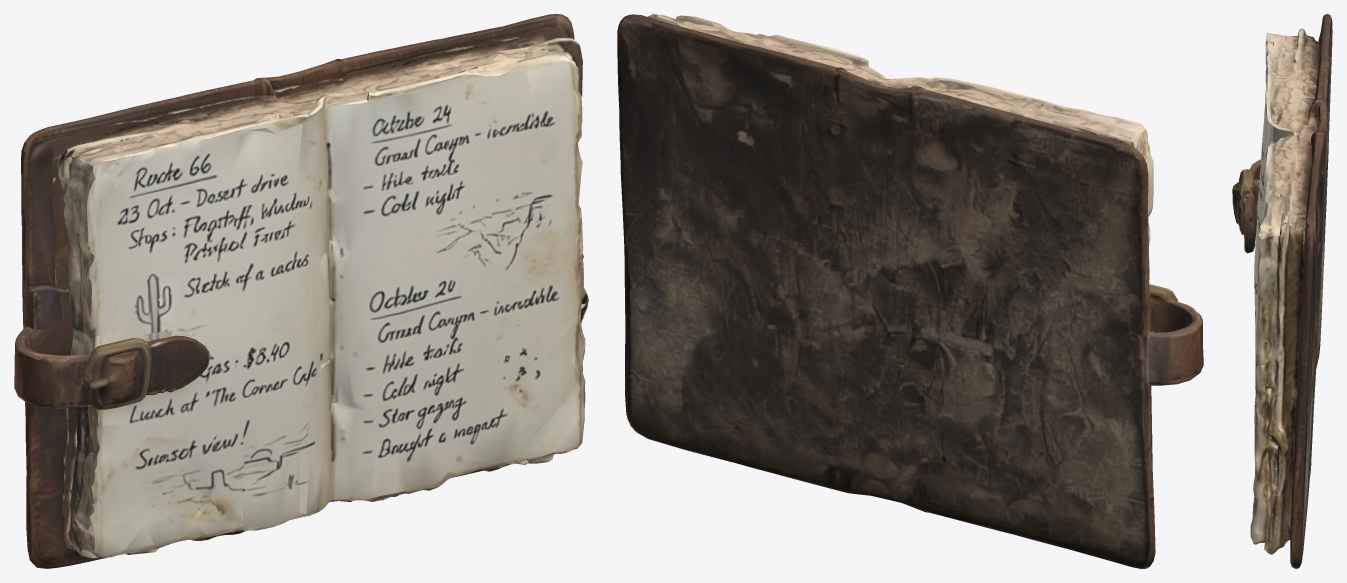
The model's file is model_glb.glb.
The picture shows the model from 3 angles, left to right: view 1: azimuth 30°, elevation 25°; view 2: azimuth 150°, elevation 25°; view 3: azimuth 270°, elevation 25°; orthographic projection. The views are drawn at different scales.
Visible parts, largest first — view 1: geometry_0; view 2: geometry_0; view 3: geometry_0.
Boxes of the visible parts, x1,y1,x2,y2 form: geometry_0: [14, 14, 588, 568]; geometry_0: [617, 14, 1203, 568]; geometry_0: [1232, 14, 1332, 568].
Size of the model in its own units: 0.21 by 0.1534 by 0.0391.
1 material, 1 textured.
